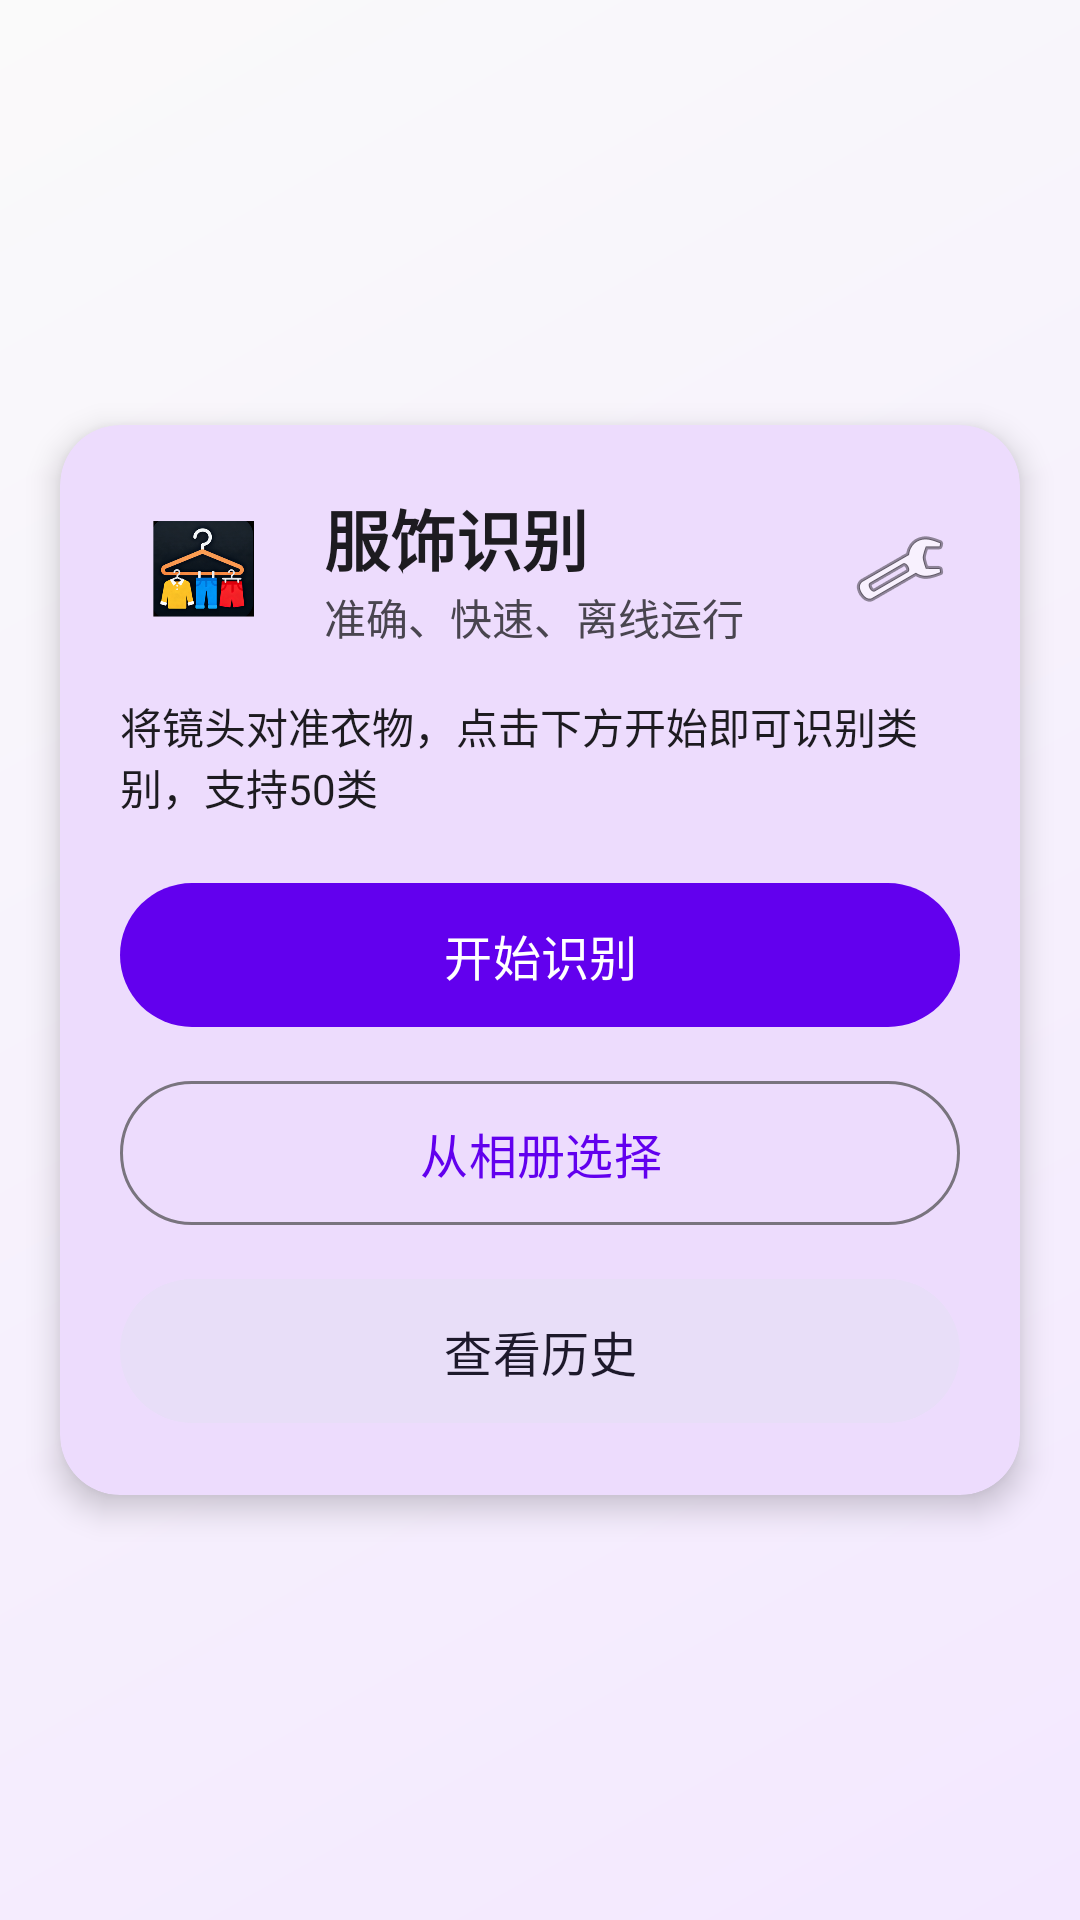

Where icons sit on this 1080w x 1920h app screen, as (x1, y1, x2, y2):
设置: (857, 536, 943, 602)
